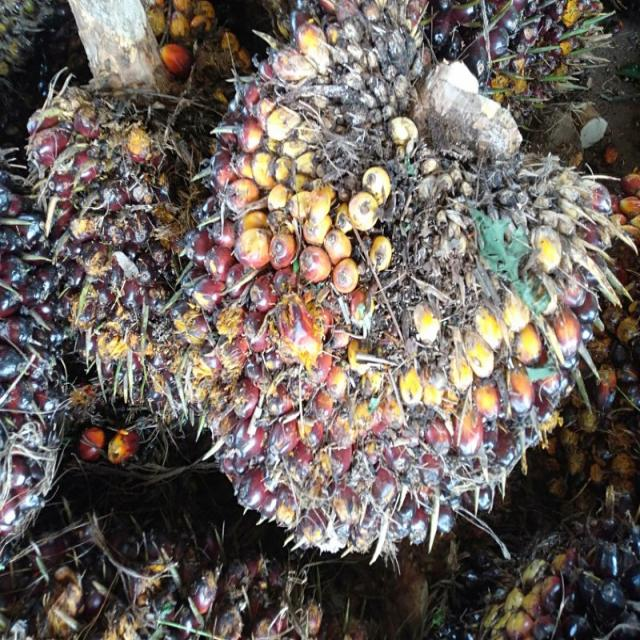fraksi 1: (177, 17, 610, 557)
